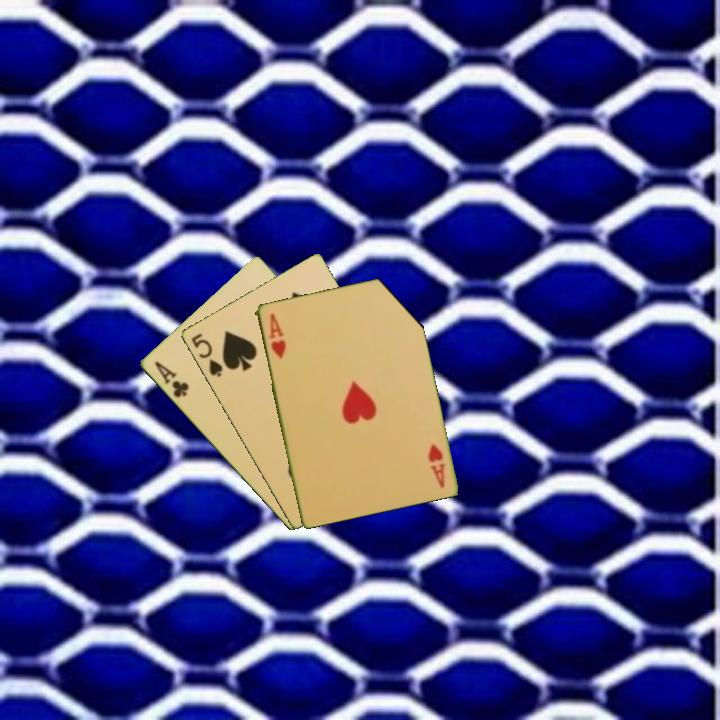5s: (187, 330, 225, 380)
Ac: (150, 358, 191, 401)
Ah: (424, 440, 448, 491), (265, 309, 288, 361)
